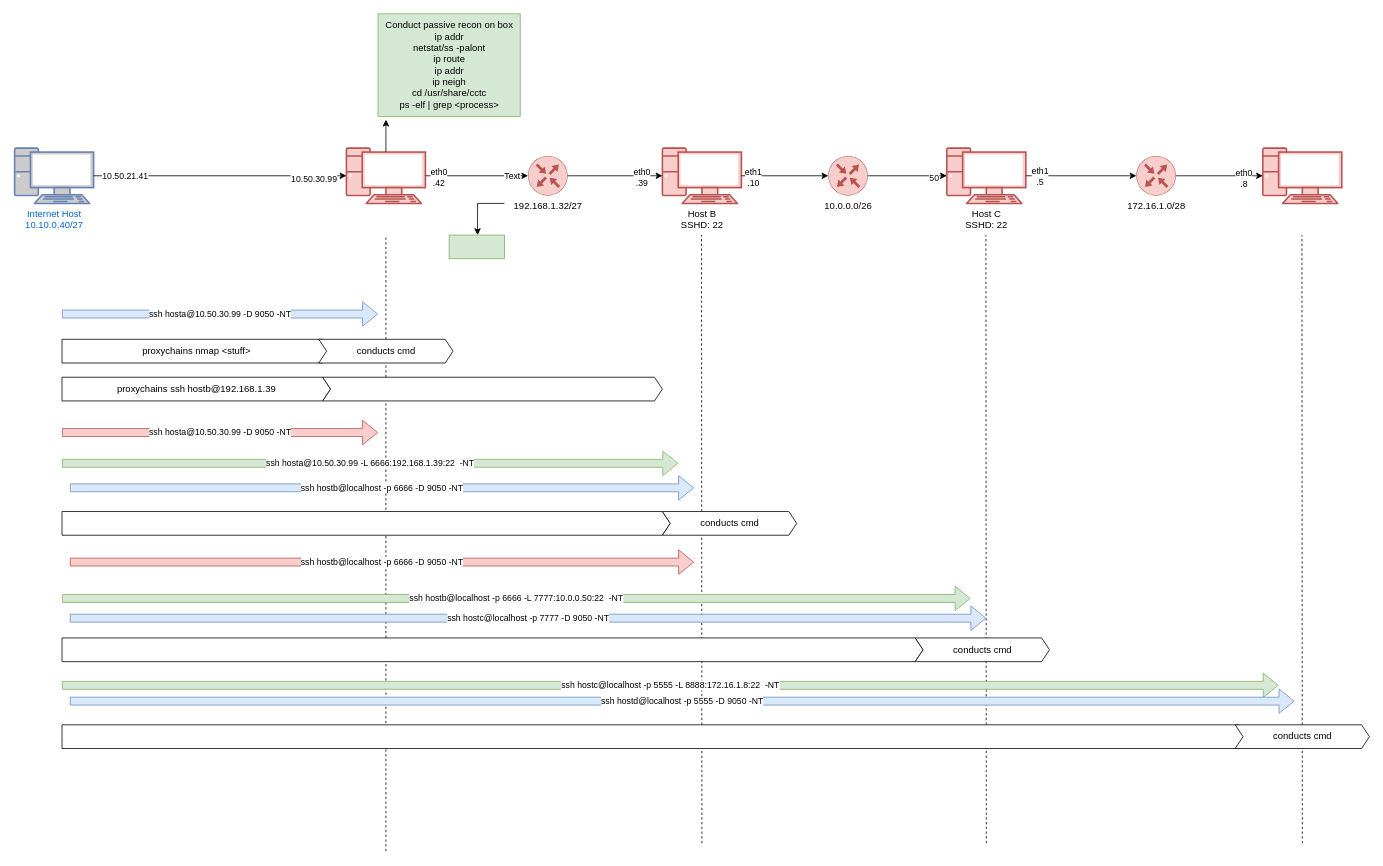
Image size: 1383x866. Some labels were removed from this diagram. The shapes that lost their labels are listed below. From the top down, each one's centre as x and y in pixels, then its label:
point 385,175: Host A SSHD: 22
point 1302,175: Host D SSHD: 22
point 476,246: scan cidr
point 492,388: log in ssh
point 365,523: proxychains ssh hostc@10.0.0.50
point 492,649: proxychains ssh hostd@172.16.1.8
point 654,736: proxychains ssh hoste@<ip>
